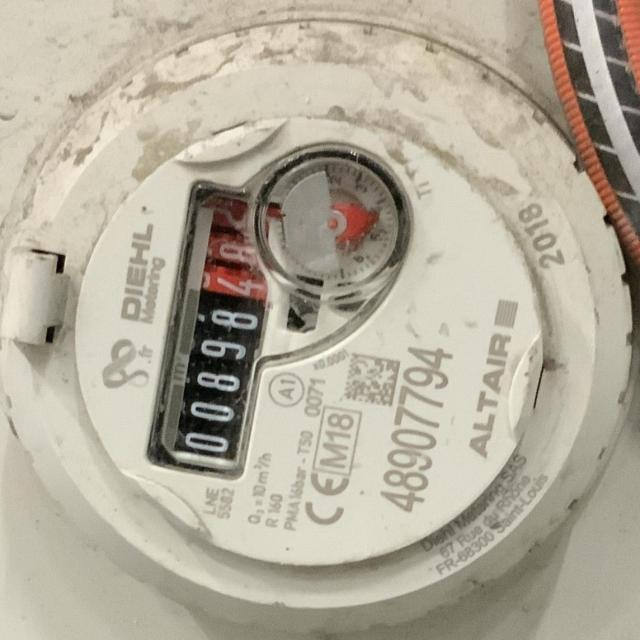gaz_meter: (20, 16, 624, 608)
indication: (165, 184, 281, 466)
